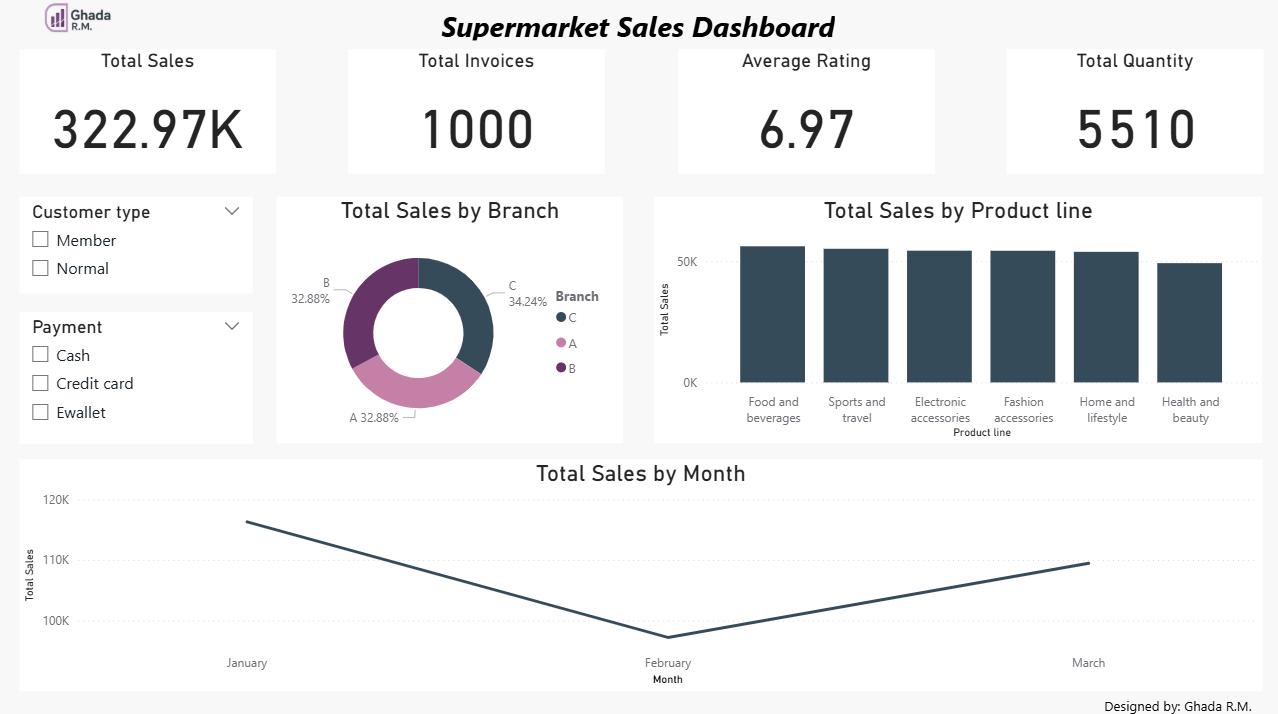

Layout of this report page (visuals, bound fields, positions):
{"tool":"powerbi","page":{"name":"Supermarket Sales Dashboard","canvas":[1280,720],"ordinal":0},"visuals":[{"type":"shape","box":[0,0,1280,51.7],"z":0},{"type":"card","title":" Total Sales","fields":{"Values":["Sum(supermarket_sales.Total)"]},"box":[21.7,51.7,256.7,125],"z":1000},{"type":"card","title":" Total Quantity","fields":{"Values":["Sum(supermarket_sales.Quantity)"]},"box":[1008.3,51.7,256.7,125],"z":2000},{"type":"card","title":"Average Rating","fields":{"Values":["Avg(supermarket_sales.Rating)"]},"box":[679.4,51.7,256.7,125],"z":3000},{"type":"card","title":" Total Invoices","fields":{"Values":["CountNonNull(supermarket_sales.Invoice ID)"]},"box":[350.6,51.7,256.7,125],"z":4000},{"type":"slicer","fields":{"Values":["supermarket_sales.Customer type"]},"box":[21.7,198.3,233.3,96.7],"z":5000},{"type":"slicer","fields":{"Values":["supermarket_sales.Payment"]},"box":[21.7,313.3,233.3,131.7],"z":6000},{"type":"lineChart","fields":{"Y":["Sum(supermarket_sales.Total)"],"Category":["supermarket_sales.Date.Variation.Date Hierarchy.Month"]},"box":[21.7,461.7,1243.3,231.7],"z":7000},{"type":"donutChart","fields":{"Category":["supermarket_sales.Branch"],"Y":["Sum(supermarket_sales.Total)"]},"box":[278.3,198.3,346.7,246.7],"z":8000},{"type":"columnChart","fields":{"Category":["supermarket_sales.Product line"],"Y":["Sum(supermarket_sales.Total)"]},"box":[656.7,198.3,608.3,246.7],"z":9000},{"type":"image","box":[21.7,0,116.7,40],"z":10000},{"type":"shape","box":[1106.7,693.3,158.3,26.7],"z":11000}]}

Visuals, with their boxes in screenshot pixels (x1, y1, x2, y2), scaled from the page's 1280x720 canvas onto the 1278x714 screenshot:
shape: (x1=0, y1=0, x2=1277, y2=51)
" Total Sales" card: (x1=22, y1=51, x2=278, y2=175)
" Total Quantity" card: (x1=1007, y1=51, x2=1263, y2=175)
"Average Rating" card: (x1=678, y1=51, x2=935, y2=175)
" Total Invoices" card: (x1=350, y1=51, x2=606, y2=175)
slicer - supermarket_sales.Customer type: (x1=22, y1=197, x2=255, y2=293)
slicer - supermarket_sales.Payment: (x1=22, y1=311, x2=255, y2=441)
lineChart - Sum(supermarket_sales.Total) x supermarket_sales.Date.Variation.Date Hierarchy.Month: (x1=22, y1=458, x2=1263, y2=688)
donutChart - supermarket_sales.Branch x Sum(supermarket_sales.Total): (x1=278, y1=197, x2=624, y2=441)
columnChart - supermarket_sales.Product line x Sum(supermarket_sales.Total): (x1=656, y1=197, x2=1263, y2=441)
image: (x1=22, y1=0, x2=138, y2=40)
shape: (x1=1105, y1=688, x2=1263, y2=713)
